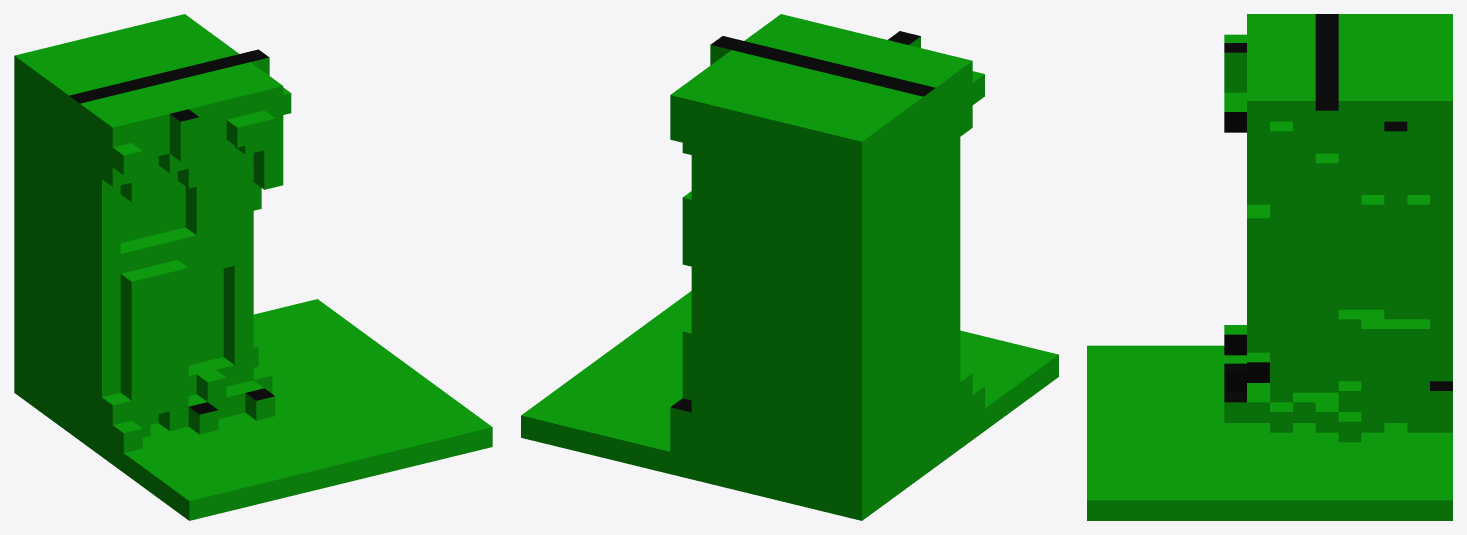
File: Corner1.fbx
The picture shows the model from 3 angles, left to right: view 1: azimuth 30°, elevation 25°; view 2: azimuth 150°, elevation 25°; view 3: azimuth 270°, elevation 25°; orthographic projection. The views are drawn at different scales.
Parts seen in each view (by area): view 1: Ground, Cliff; view 2: Cliff, Ground; view 3: Ground, Cliff.
Part boxes in pixels (x1,y1,x2,y2): Ground: (14, 14, 492, 520); Cliff: (14, 76, 261, 456); Cliff: (682, 92, 960, 520); Ground: (521, 14, 1058, 479); Ground: (1087, 14, 1452, 520); Cliff: (1247, 142, 1452, 422).
Size of the model in its own units: 16 by 17 by 16.
